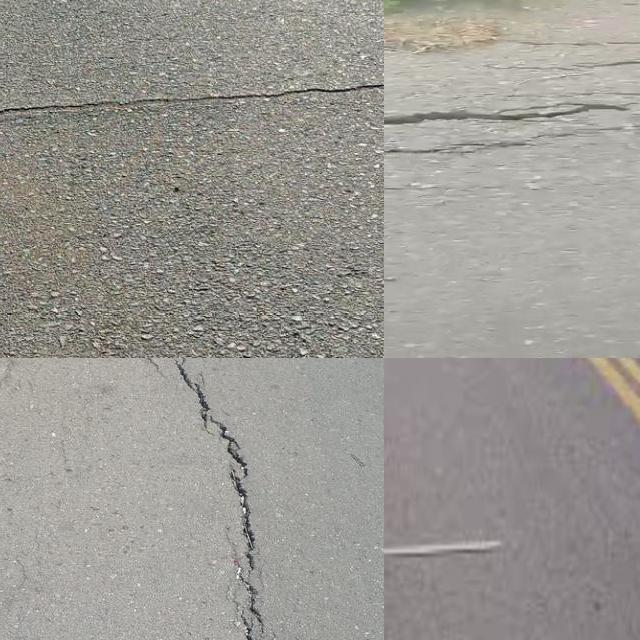Melintang: (0, 67, 384, 143), (384, 90, 638, 147)
Memanjang: (157, 358, 283, 640)
